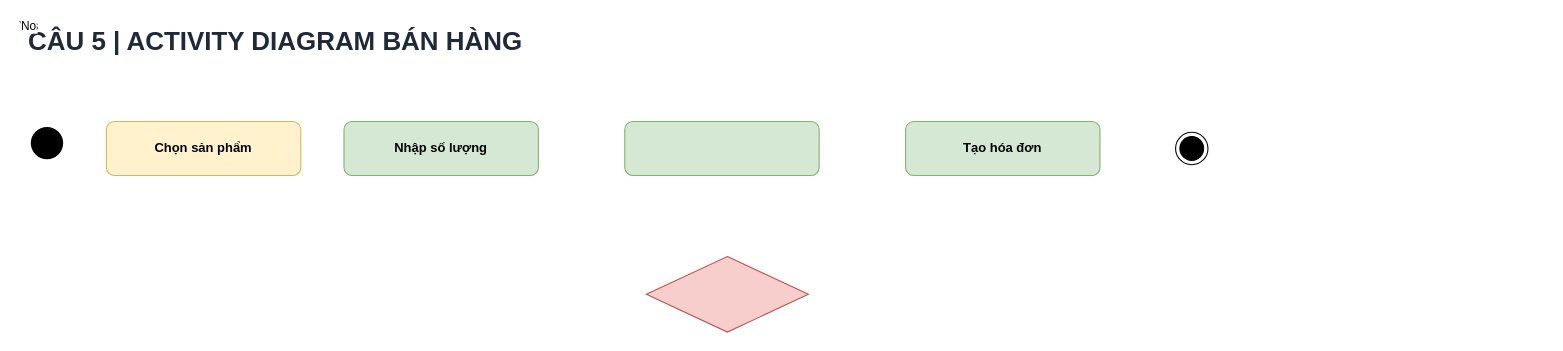
Image size: 1563x351. Some labels were removed from this diagram. The shapes that lost their labels are listed below. From the top down, each one's box as (x1, y1, x2, y2) in pixels, then its label:
(624, 120, 819, 176): Kiểm tra tồn kho
(645, 255, 808, 332): Còn hàng?
